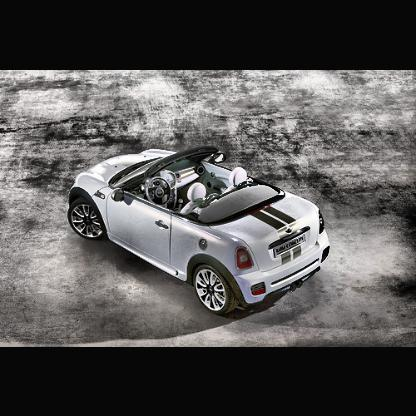MINI Cooper Roadster Convertible 2012: (66, 148, 333, 319)
